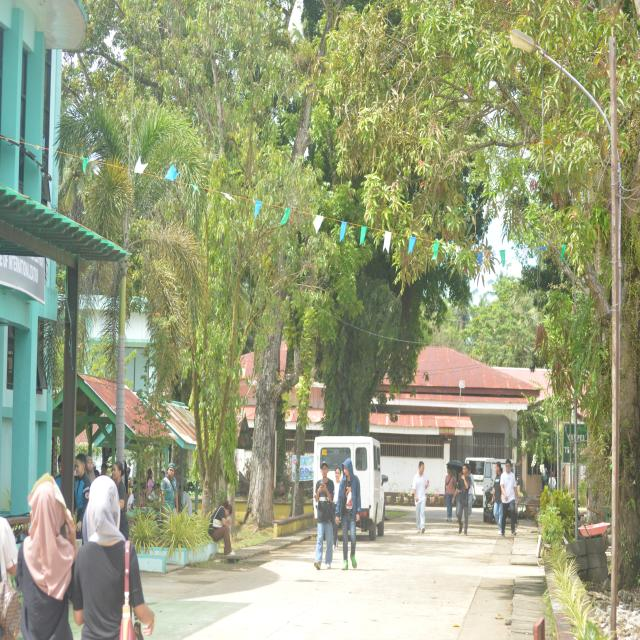person: (15, 475, 77, 639), (73, 476, 126, 639), (335, 458, 361, 570), (314, 461, 334, 569), (209, 500, 234, 555), (501, 460, 519, 536), (112, 461, 129, 540), (454, 464, 471, 535), (412, 461, 428, 533), (160, 463, 178, 513), (492, 463, 502, 533), (445, 464, 456, 521), (333, 520, 338, 551)
